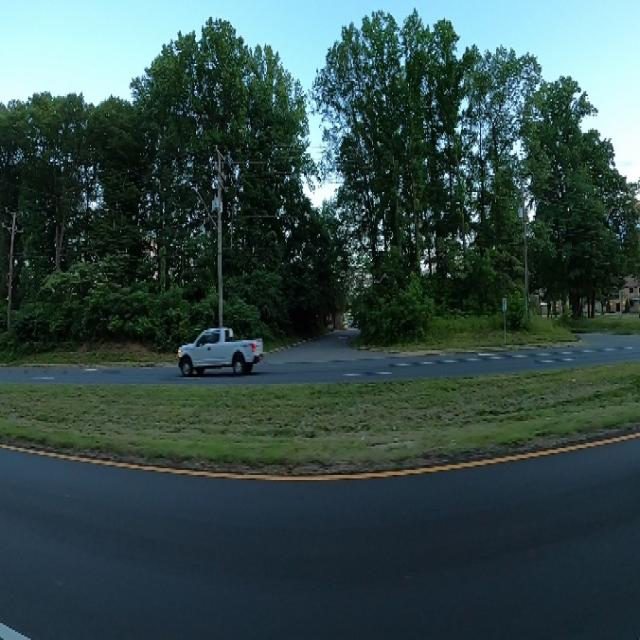cars: (174, 324, 267, 383)
